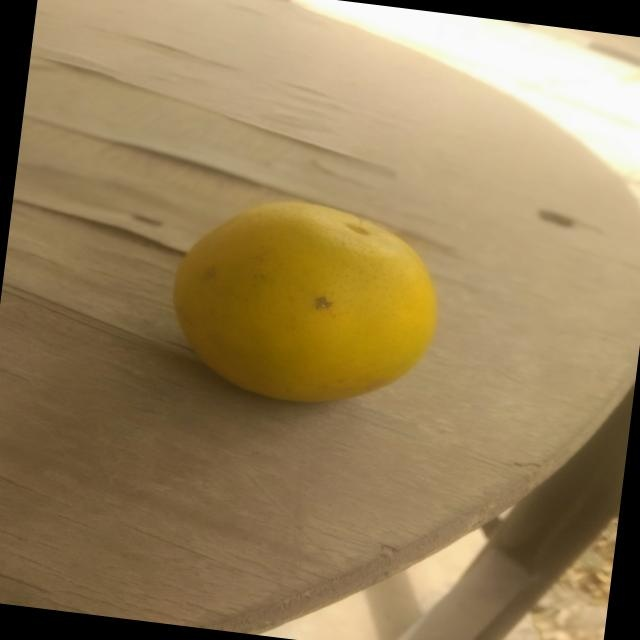agrume: (152, 176, 464, 427)
